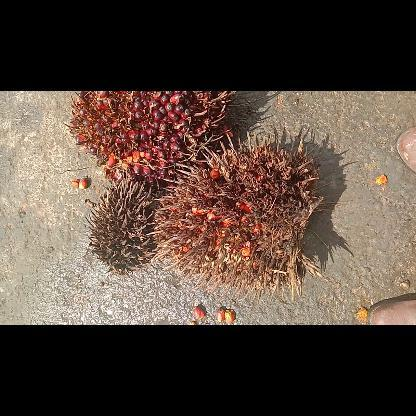Janjang kosong: (84, 174, 162, 274)
TBS masak: (65, 90, 235, 182)
Terlalu masak: (147, 131, 323, 305)
